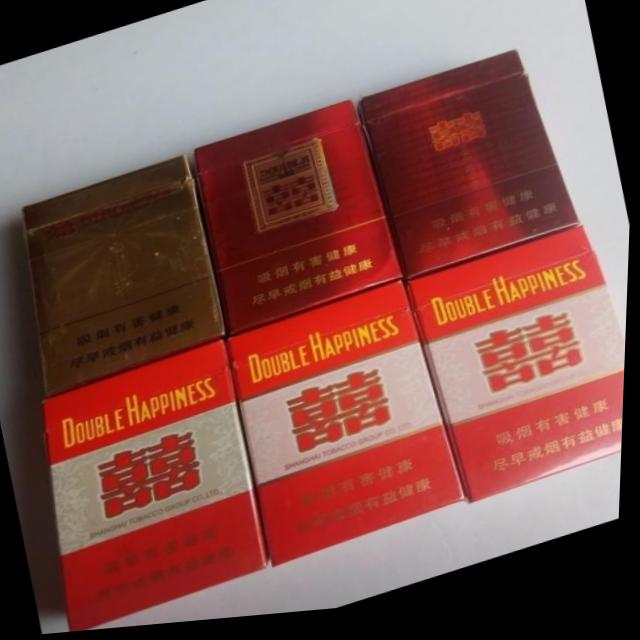box: (229, 287, 468, 571), (44, 342, 274, 633), (406, 233, 628, 512), (362, 58, 580, 286), (23, 156, 228, 396), (196, 106, 404, 340)
